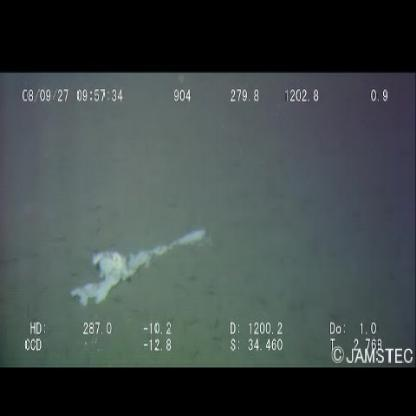Rác: (72, 228, 208, 309)
